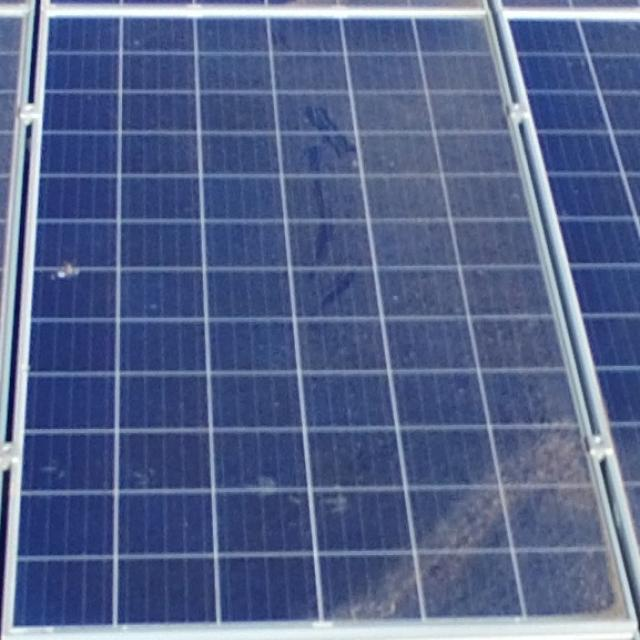Dust: (339, 0, 542, 350), (415, 338, 610, 640)
bird-droppings: (54, 256, 84, 286)
